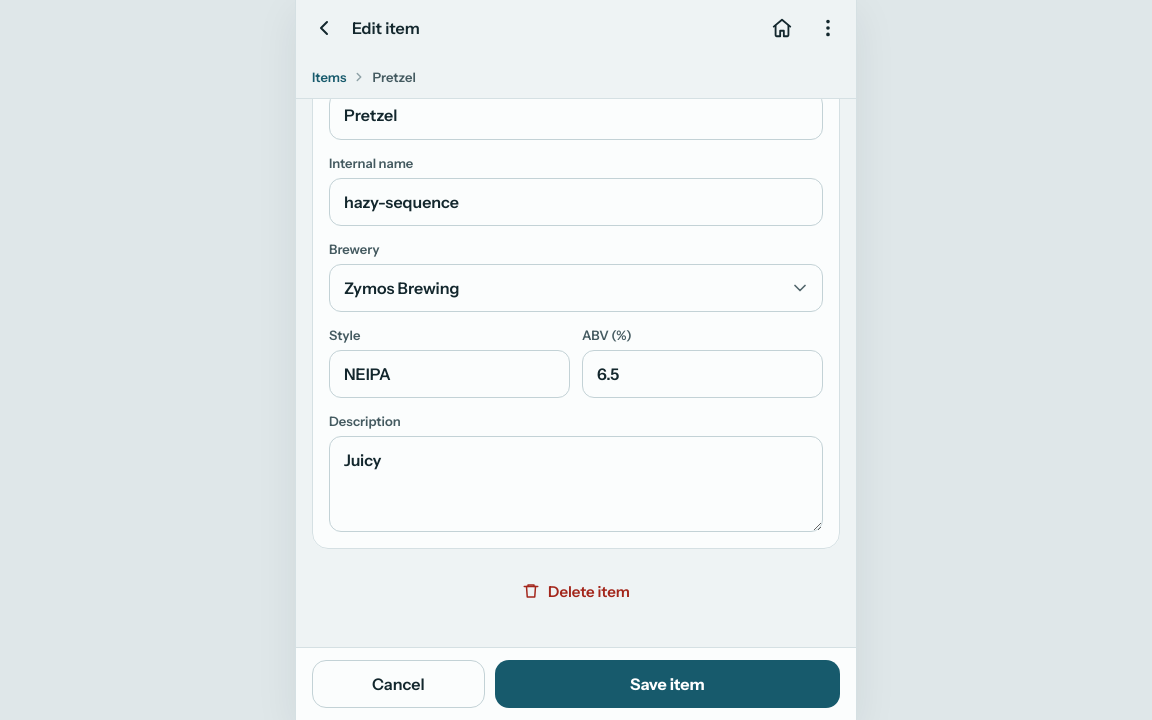
LibraryItemPage › shows why a delete was refused
(page scrolled)
Click the button "Delete item" at {"x": 576, "y": 591}, box [312,567,840,615]
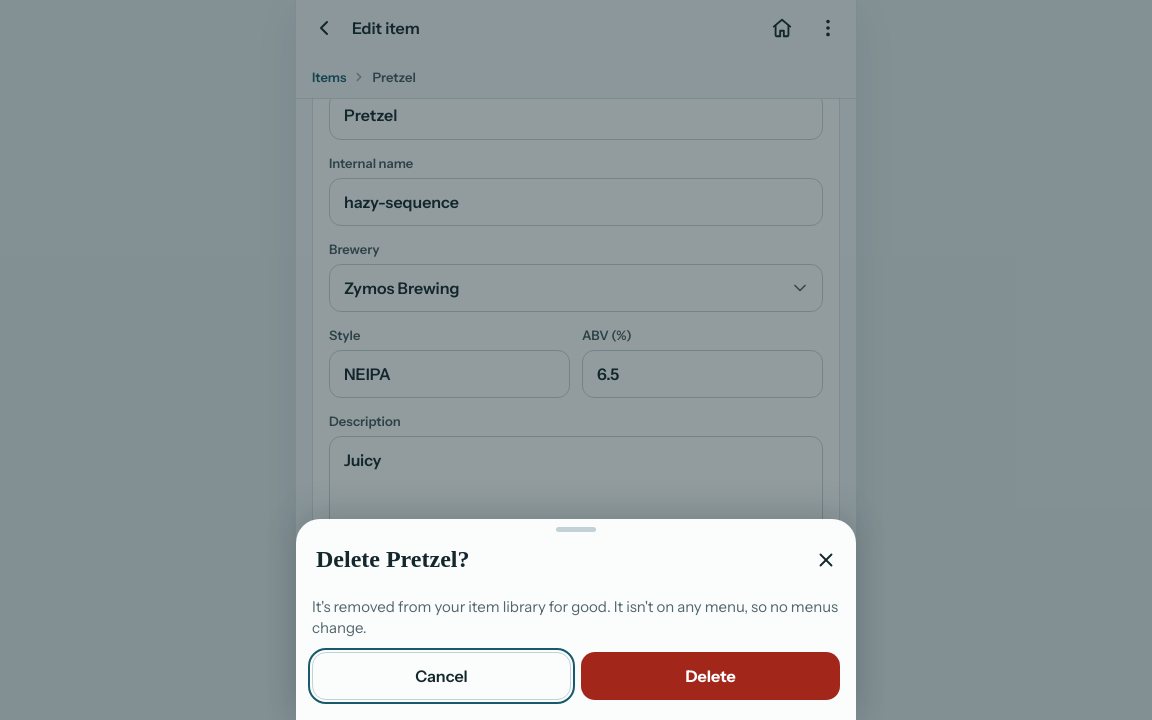
Click the button "Delete" at {"x": 710, "y": 676}, box [581,652,840,700]
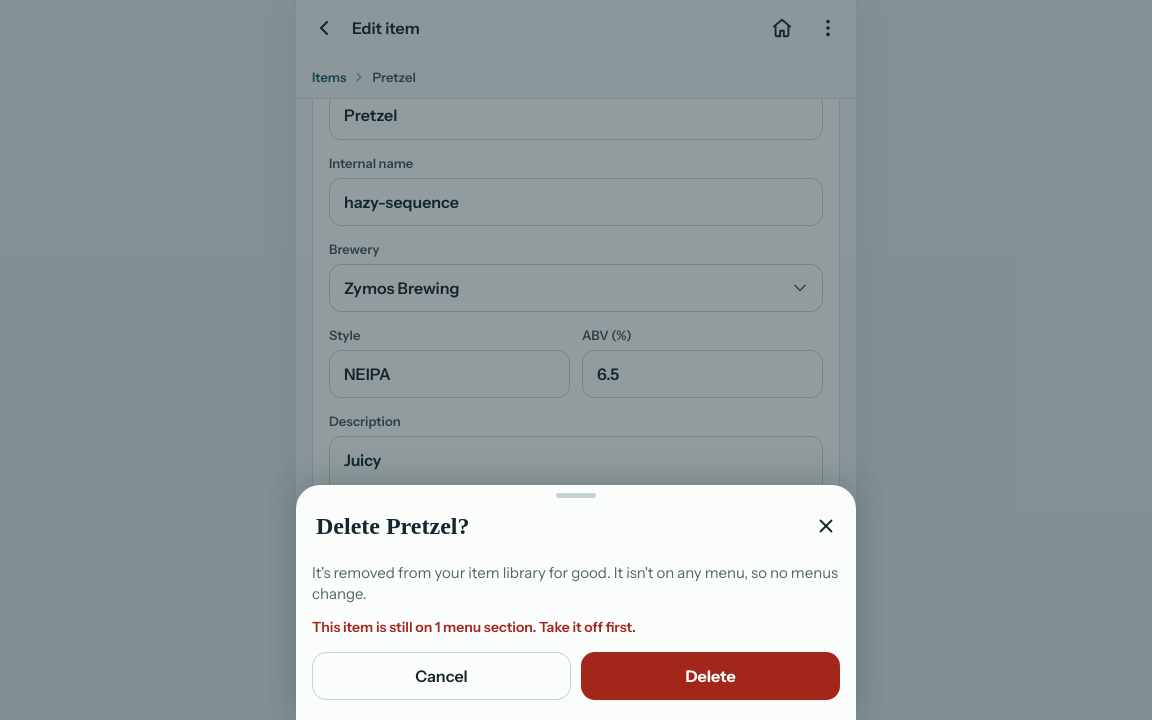
Expected: the text "This item is still on 1 menu section. Take it off first." is shown, [312,618,636,636]
